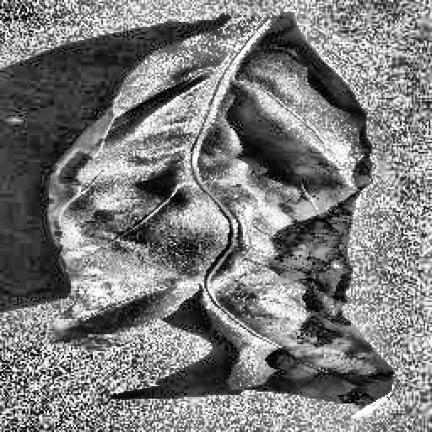leaf: (47, 12, 392, 415)
